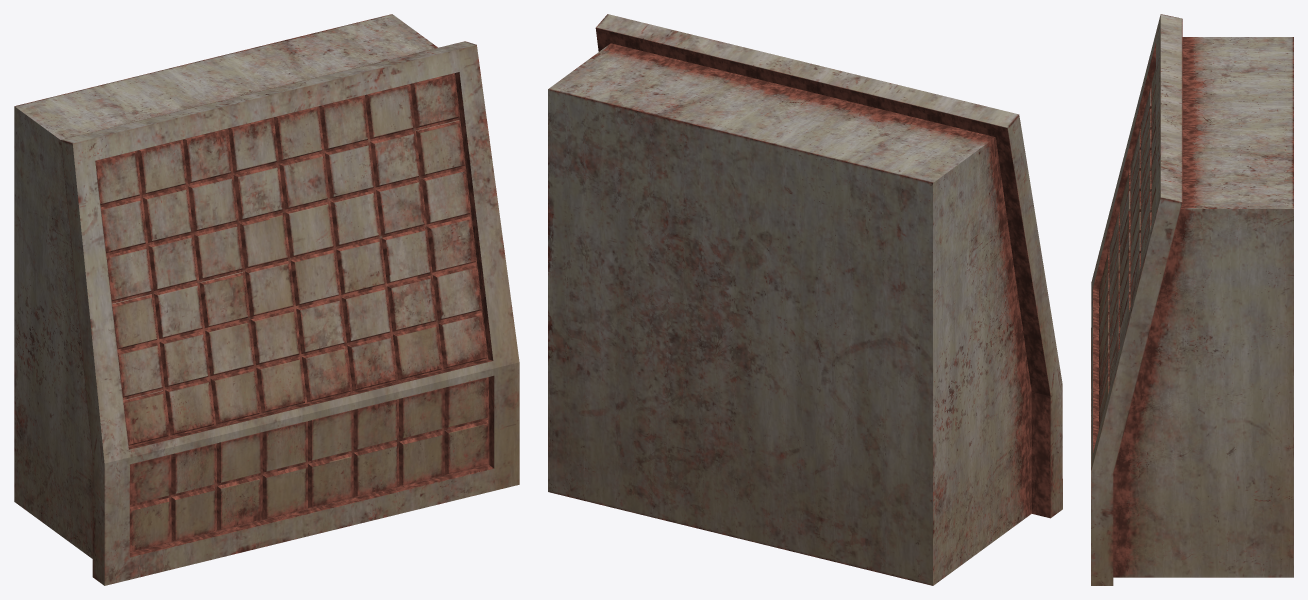
The model's file is Upgrade Station Textured.fbx.
The picture shows the model from 3 angles, left to right: view 1: azimuth 30°, elevation 25°; view 2: azimuth 150°, elevation 25°; view 3: azimuth 270°, elevation 25°; orthographic projection. The views are drawn at different scales.
Visible parts, largest first — view 1: Upgrade Station; view 2: Upgrade Station; view 3: Upgrade Station.
Part boxes in pixels (x1=…): Upgrade Station: x1=14, y1=14, x2=519, y2=585; Upgrade Station: x1=548, y1=14, x2=1062, y2=585; Upgrade Station: x1=1091, y1=14, x2=1293, y2=585.
Size of the model in its own units: 220 by 209 by 99.73.
Materials: 1 (1 with a texture image).
